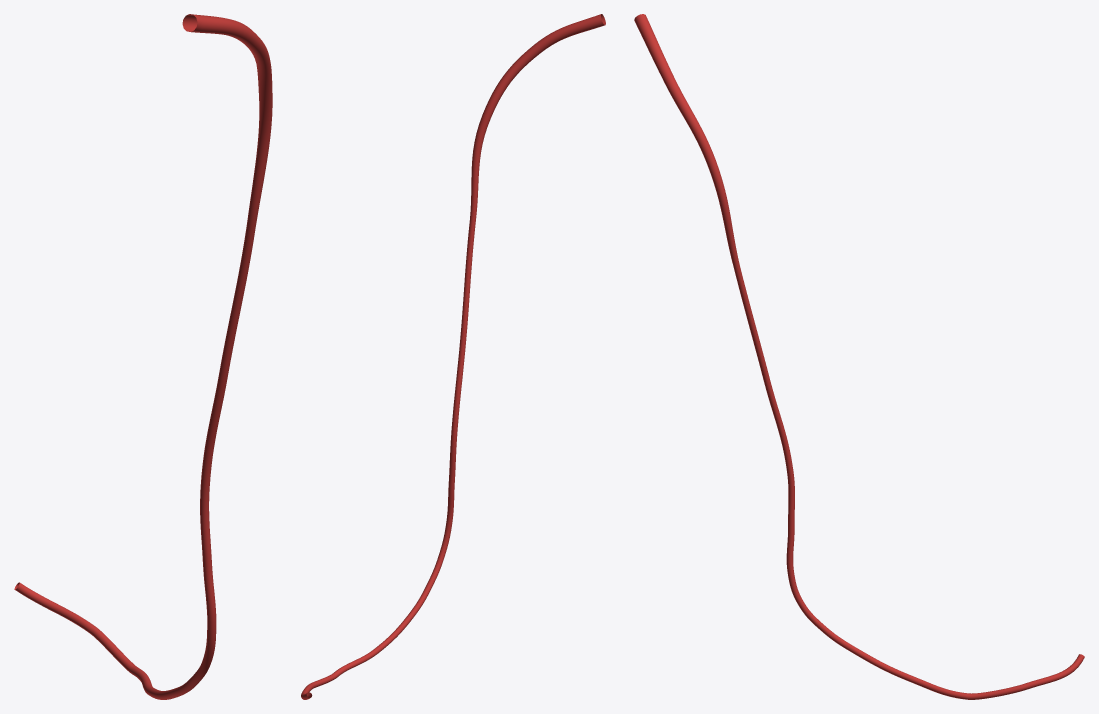
3 renders of one model, left to right at view 1: azimuth 30°, elevation 25°; view 2: azimuth 150°, elevation 25°; view 3: azimuth 270°, elevation 25°, orthographic. The views are drawn at different scales.
Parts seen in each view (by area): view 1: 右侧蝶腭动脉鼻中隔后支; view 2: 右侧蝶腭动脉鼻中隔后支; view 3: 右侧蝶腭动脉鼻中隔后支.
Part boxes in pixels (x1,y1,x2,y2): 右侧蝶腭动脉鼻中隔后支: (14,14,272,699); 右侧蝶腭动脉鼻中隔后支: (301,14,605,699); 右侧蝶腭动脉鼻中隔后支: (634,14,1084,699).
Bounding box in the file's own units: 0.0135 × 0.0619 × 0.0404.
